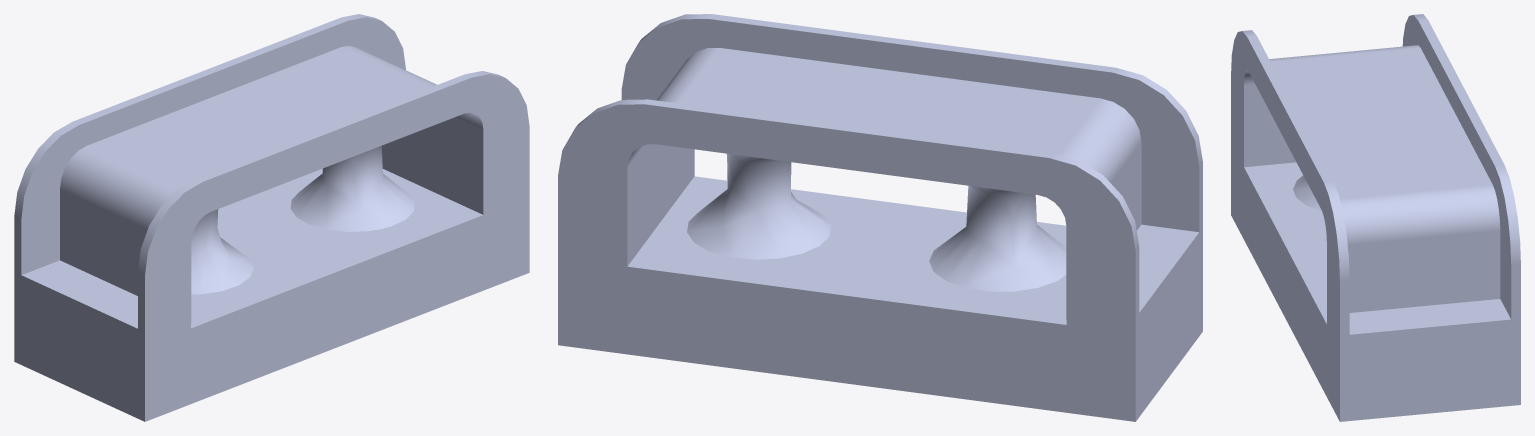
The picture shows the model from 3 angles, left to right: view 1: azimuth 30°, elevation 25°; view 2: azimuth 150°, elevation 25°; view 3: azimuth 270°, elevation 25°; orthographic projection. The views are drawn at different scales.
Visible parts, largest first — view 1: NAUO56, NAUO59, NAUO58; view 2: NAUO56, NAUO57, NAUO58; view 3: NAUO56, NAUO60, NAUO59.
Part boxes in pixels (x1,y1,x2,y2): NAUO56: (14, 14, 529, 350); NAUO59: (149, 203, 525, 420); NAUO58: (14, 291, 148, 421); NAUO56: (558, 14, 1202, 339); NAUO57: (564, 263, 1129, 421); NAUO58: (1130, 249, 1202, 421); NAUO56: (1231, 14, 1520, 353); NAUO60: (1339, 337, 1520, 421); NAUO59: (1232, 149, 1338, 419).
Bounding box in the file's own units: 1.06 × 0.46 × 0.5785.
